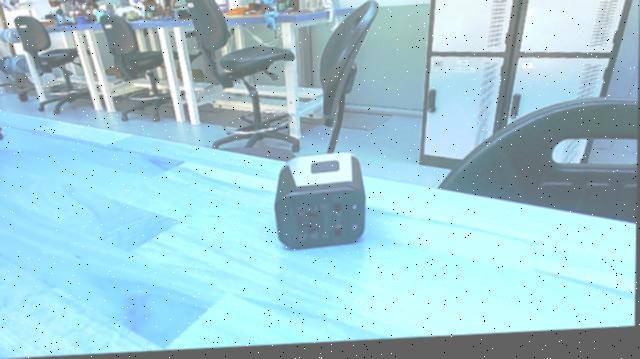adapter: (268, 146, 371, 257)
